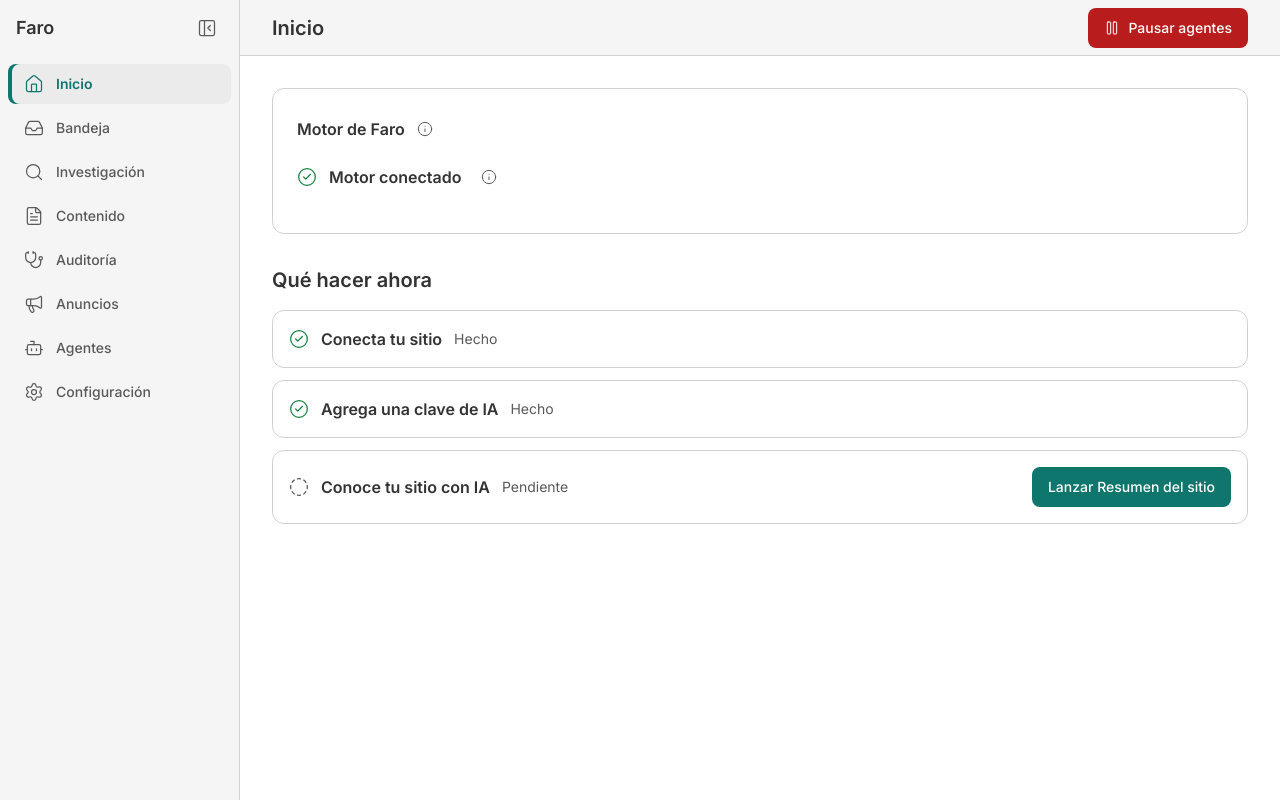
Scenario: Inicio con agentes (spec F1b §3.8) › paso 3 'Conoce tu sitio con IA': pendiente y abre el diálogo de lanzar
Check: the text "Pendiente" is shown, box [502,477,568,497]
Click the button "Lanzar Resumen del sitio" at coordinates (1132, 487), box [1032,467,1231,507]
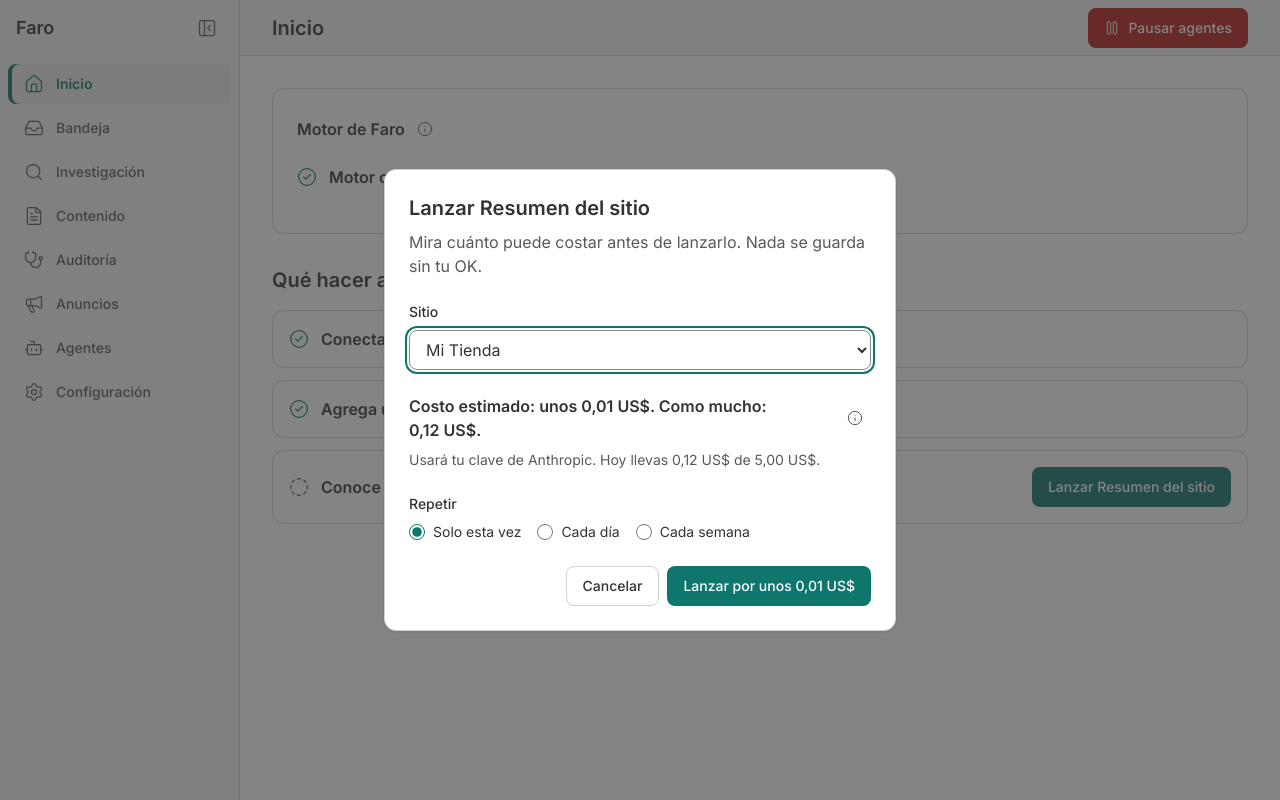
Check: the dialog "Lanzar Resumen del sitio" is shown, box [384,169,896,631]
